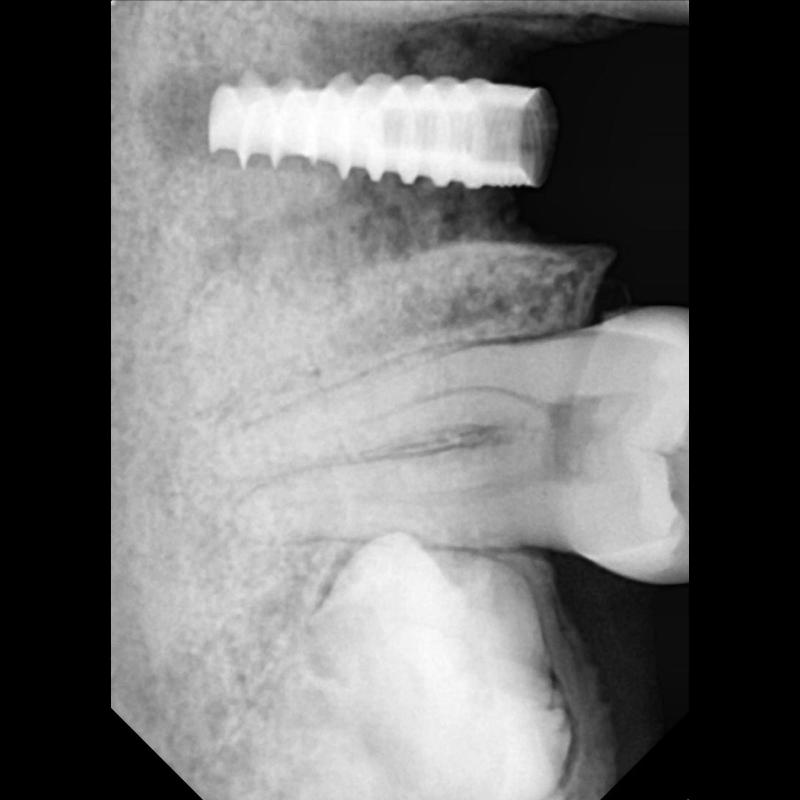NORIS: (203, 68, 552, 192)
